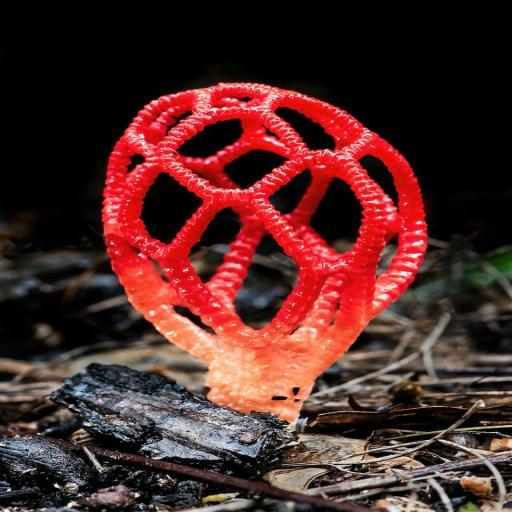mushroom: (26, 8, 470, 450)
